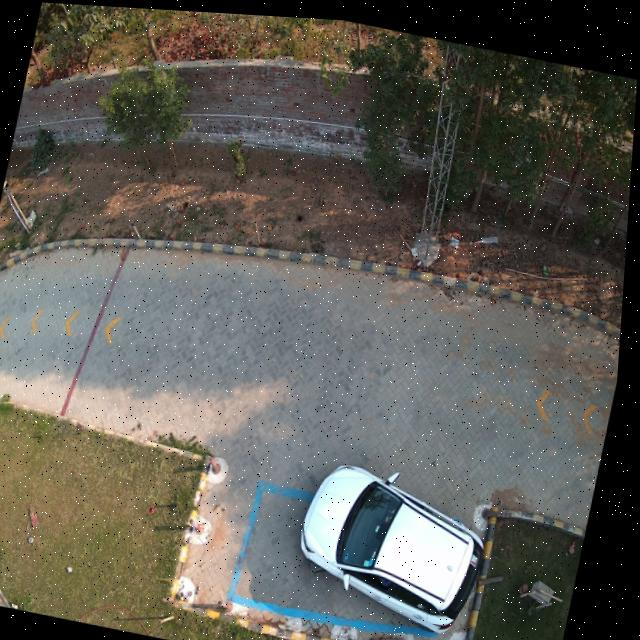car: (308, 460, 492, 630)
